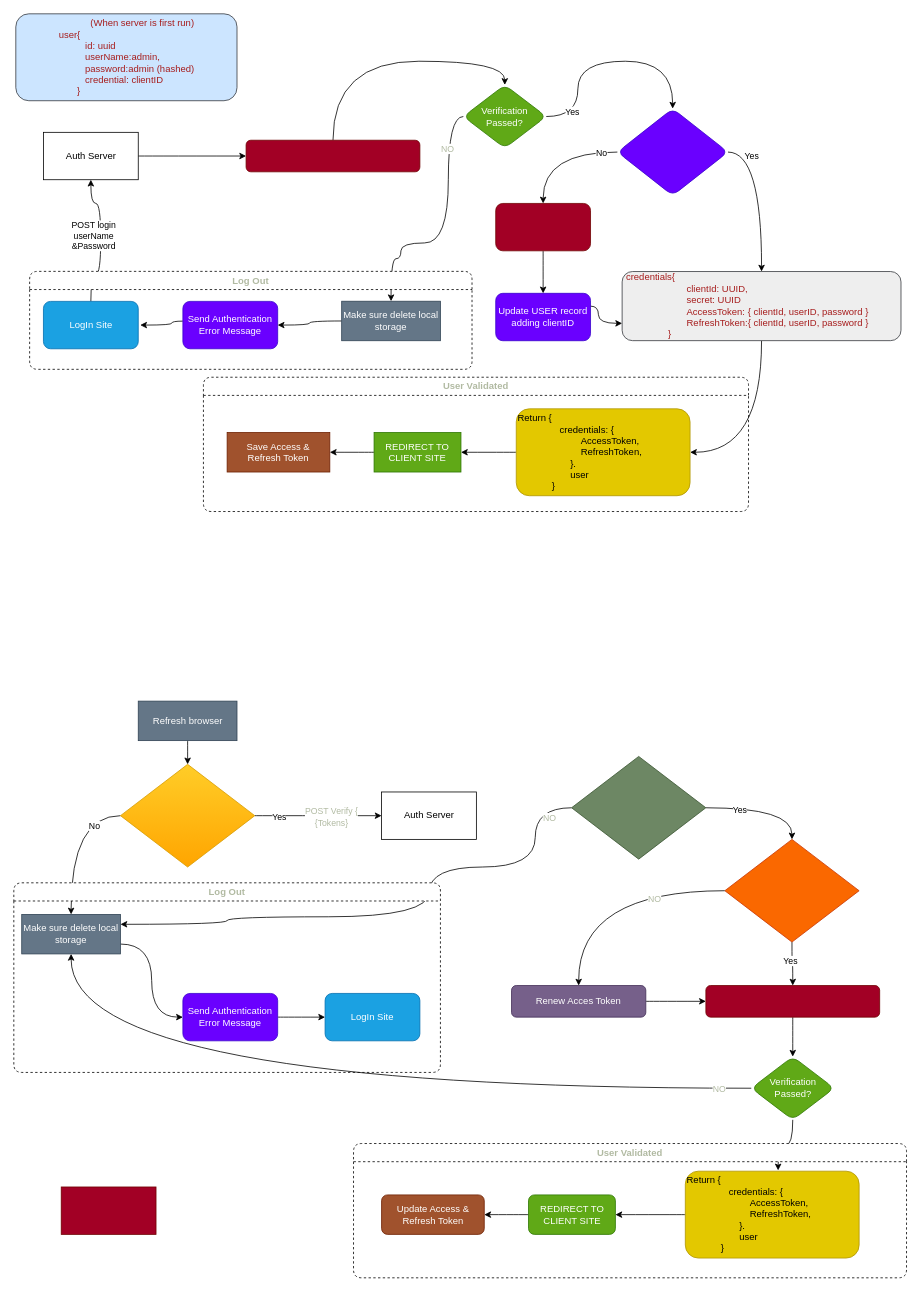
The diagram is 920 pixels wide and 1292 high, and some of its shapes have lost their labels. The shapes that lost their labels are listed below. From the top down, each one's box as (x1, y1, x2, y2) in pixels, then its label:
(245, 139, 420, 172): Verify UserName and Password In USERS DataBase
(617, 108, 728, 196): Does user have an Client ID?
(495, 203, 591, 251): Create credential
(120, 764, 255, 867): Is there Access & Refresh Toked stored locally?
(571, 756, 706, 859): Valid Refresh Token and same from post and DB?
(724, 839, 859, 942): Valid Refresh Token?
(705, 985, 880, 1017): Verify UserName and Password In USERS DataBase (ClientId in Token)
(60, 1186, 156, 1234): Resource Server
